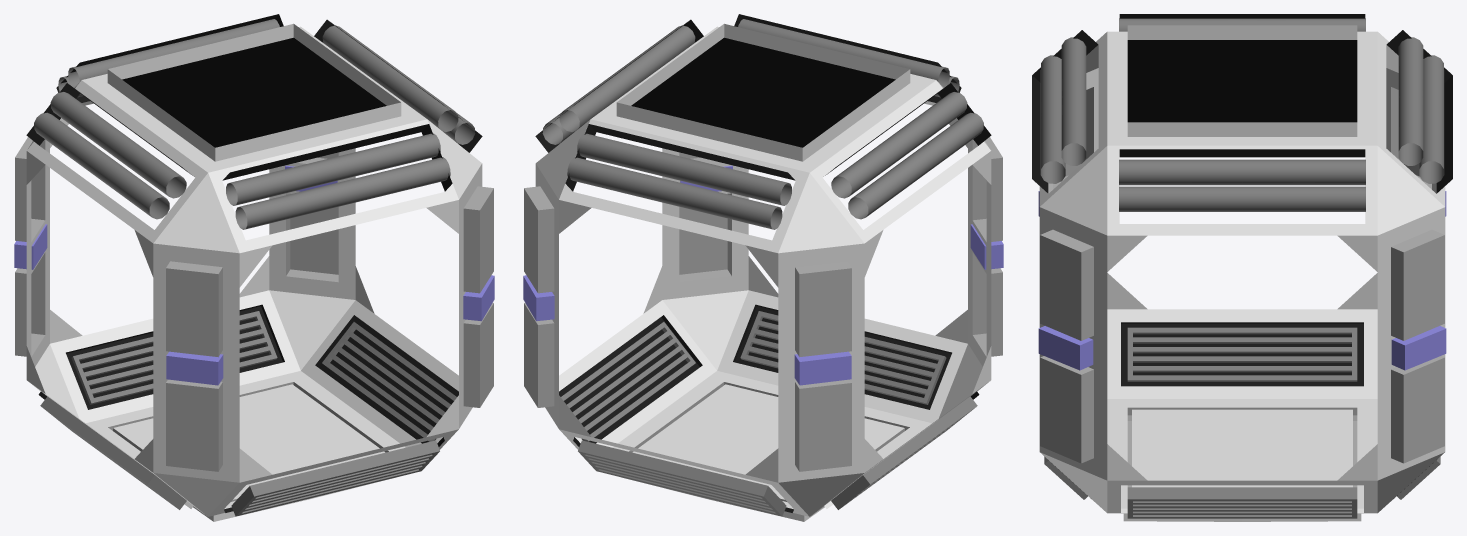
File: Central_module.fbx
3 renders of one model, left to right at view 1: azimuth 30°, elevation 25°; view 2: azimuth 150°, elevation 25°; view 3: azimuth 270°, elevation 25°, orthographic. The views are drawn at different scales.
Visible parts, largest first — view 1: ModuleCentral.001; view 2: ModuleCentral.001; view 3: ModuleCentral.001.
Boxes of the visible parts, x1,y1,x2,y2 form: ModuleCentral.001: (14, 14, 494, 521); ModuleCentral.001: (523, 14, 1003, 521); ModuleCentral.001: (1032, 14, 1452, 521).
Bounding box in the file's own units: 623 × 649 × 623.
